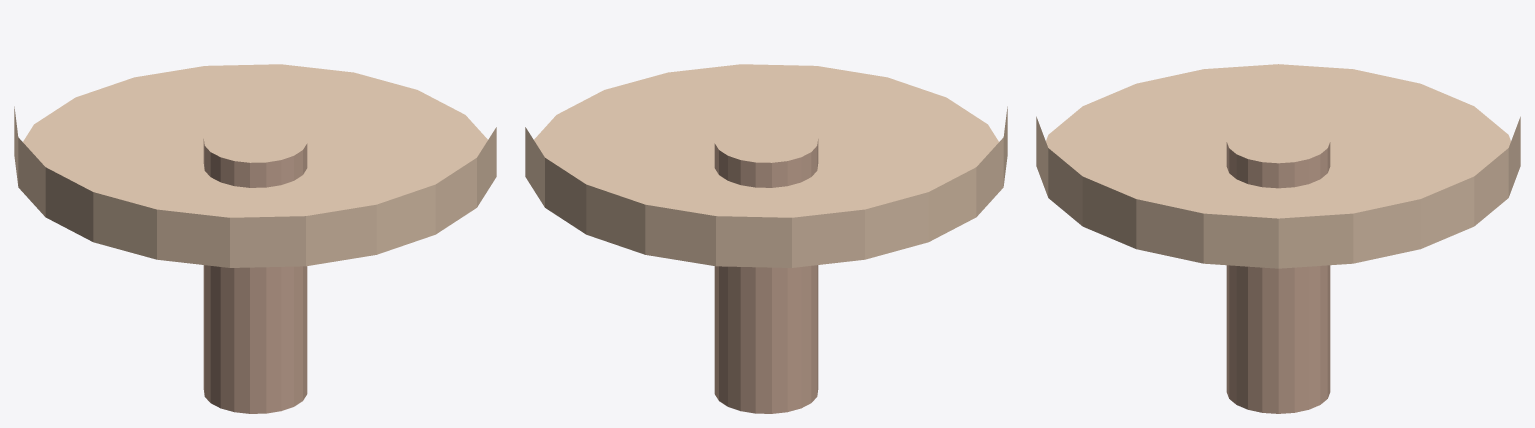
Rendered from table.glb.
3 views of the same model, side by side, from view 1: azimuth 30°, elevation 25°; view 2: azimuth 150°, elevation 25°; view 3: azimuth 270°, elevation 25° (orthographic).
Visible parts, largest first — view 1: top, leg; view 2: top, leg; view 3: top, leg.
Boxes of the visible parts, bbox=[...] form: top: bbox=[14, 64, 496, 267]; leg: bbox=[203, 139, 307, 413]; top: bbox=[525, 64, 1007, 267]; leg: bbox=[714, 139, 818, 413]; top: bbox=[1036, 64, 1520, 268]; leg: bbox=[1226, 142, 1330, 413].
Bounding box in the file's own units: 0.7 × 0.44 × 0.7.
